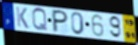0: (70, 12, 85, 36)
6: (91, 14, 105, 38)
9: (108, 16, 122, 40)
K: (15, 6, 30, 30)
P: (52, 9, 70, 34)
Q: (31, 7, 49, 32)
